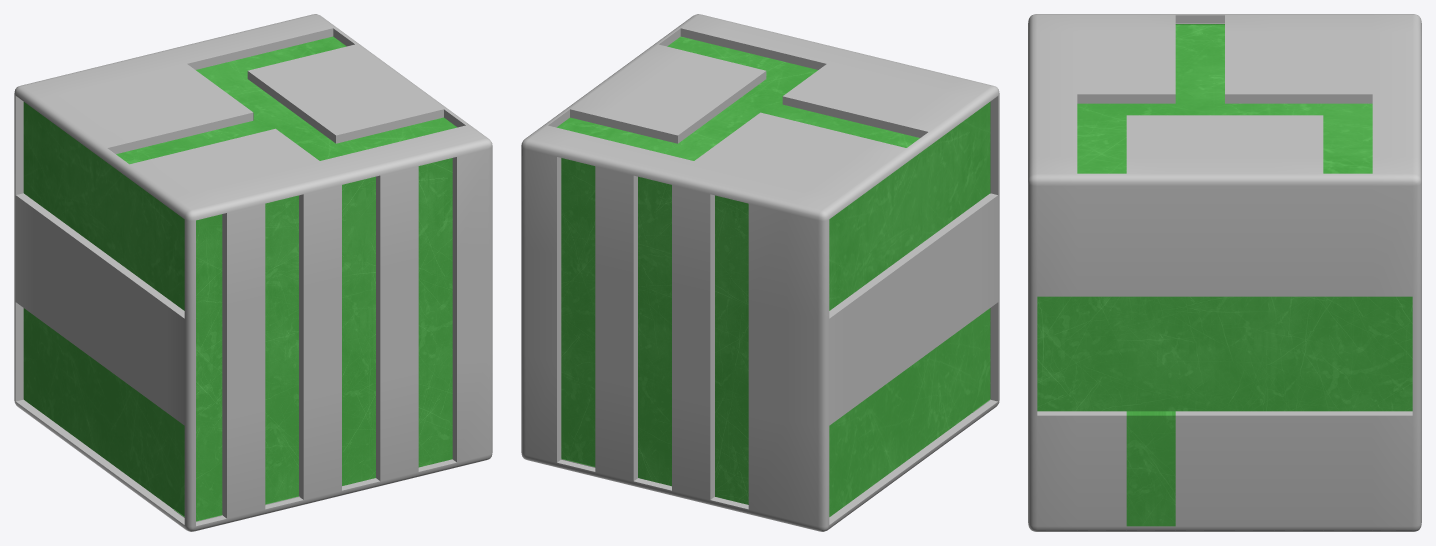
File: CyberORTech_Cube.fbx
3 views of the same model, side by side, from view 1: azimuth 30°, elevation 25°; view 2: azimuth 150°, elevation 25°; view 3: azimuth 270°, elevation 25° (orthographic). The views are drawn at different scales.
Visible parts, largest first — view 1: Box001; view 2: Box001; view 3: Box001.
Part boxes in pixels (bbox=[...]): Box001: bbox=[14, 14, 492, 531]; Box001: bbox=[521, 14, 999, 531]; Box001: bbox=[1028, 14, 1421, 531].
Bounding box in the file's own units: 38 × 38 × 38.
7 materials, 1 textured.
